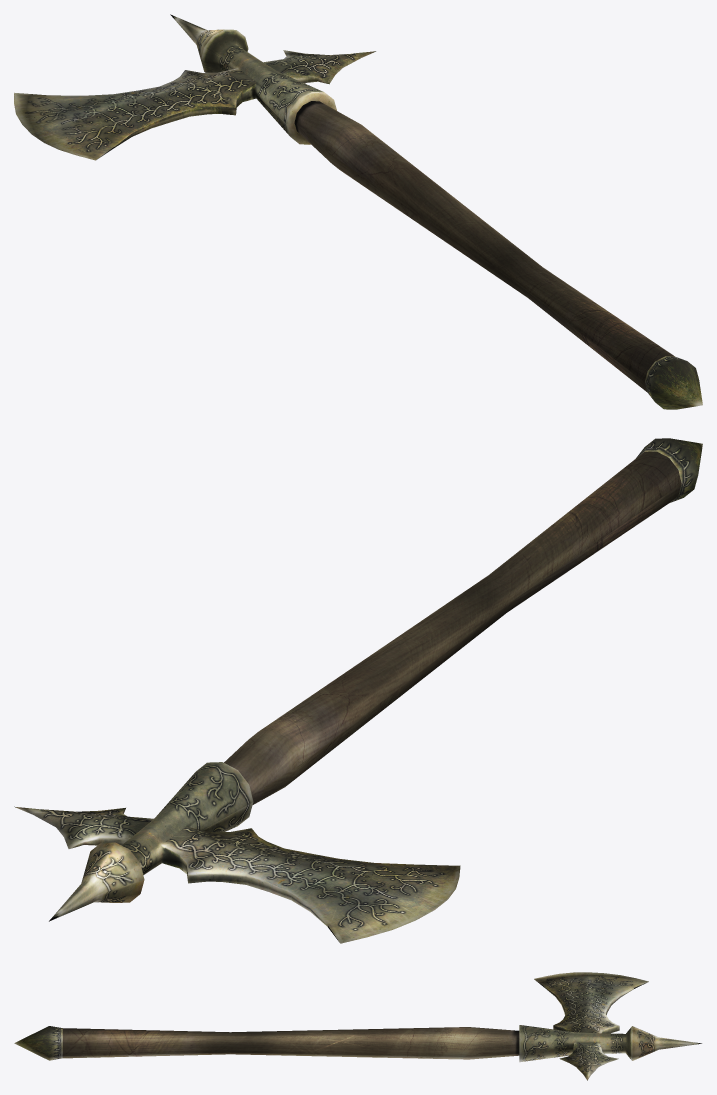
Rendered from Axe_C.FBX.
3 views of the same model, one above another, from view 1: azimuth 30°, elevation 25°; view 2: azimuth 150°, elevation 25°; view 3: azimuth 270°, elevation 25° (orthographic). The views are drawn at different scales.
Parts seen in each view (by area): view 1: Axe_C; view 2: Axe_C; view 3: Axe_C.
Part boxes in pixels (x1,y1,x2,y2): Axe_C: (14,14,702,409); Axe_C: (14,438,702,943); Axe_C: (14,972,701,1080).
Bounding box in the file's own units: 26.8 × 3.93 × 71.97.
